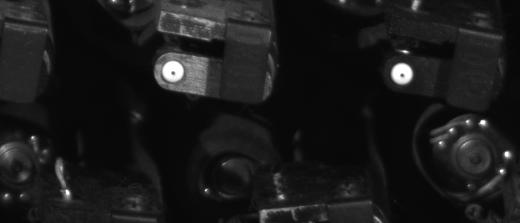fiber: (158, 54, 189, 90), (386, 60, 421, 89)
